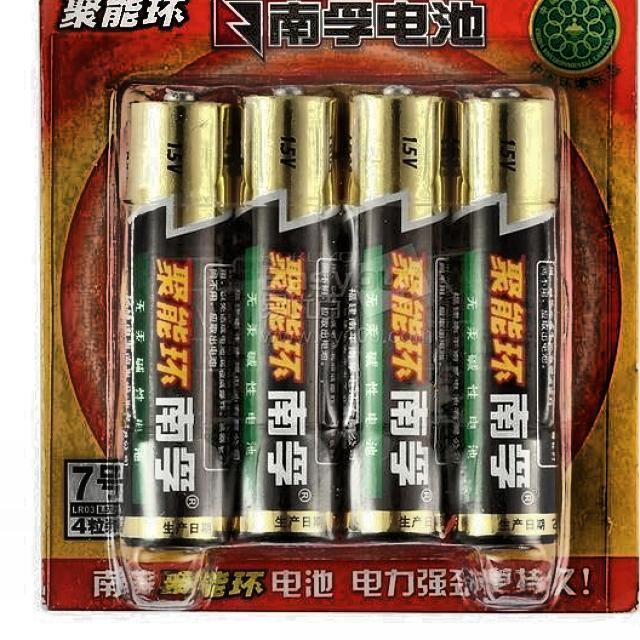battery: (115, 84, 566, 557)
